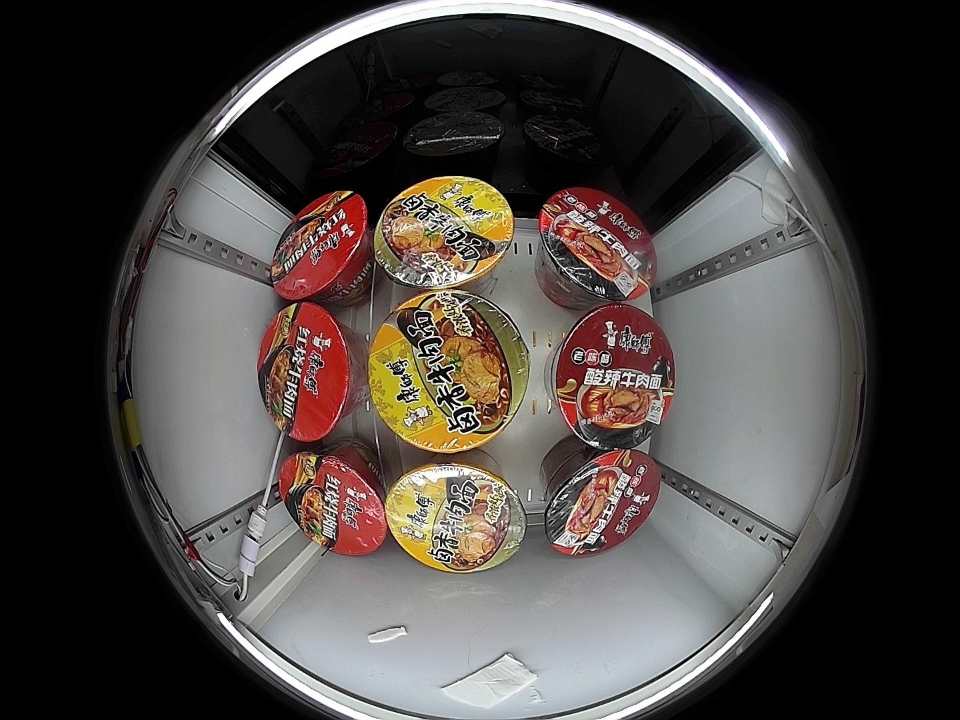hongshaoniurou: (258, 302, 361, 441), (279, 449, 388, 555), (270, 189, 372, 302)
luxiangniurou: (368, 291, 530, 453), (385, 459, 527, 573), (373, 176, 515, 290)
suanlaniurou: (552, 304, 675, 449), (538, 187, 656, 303), (545, 448, 660, 556)
